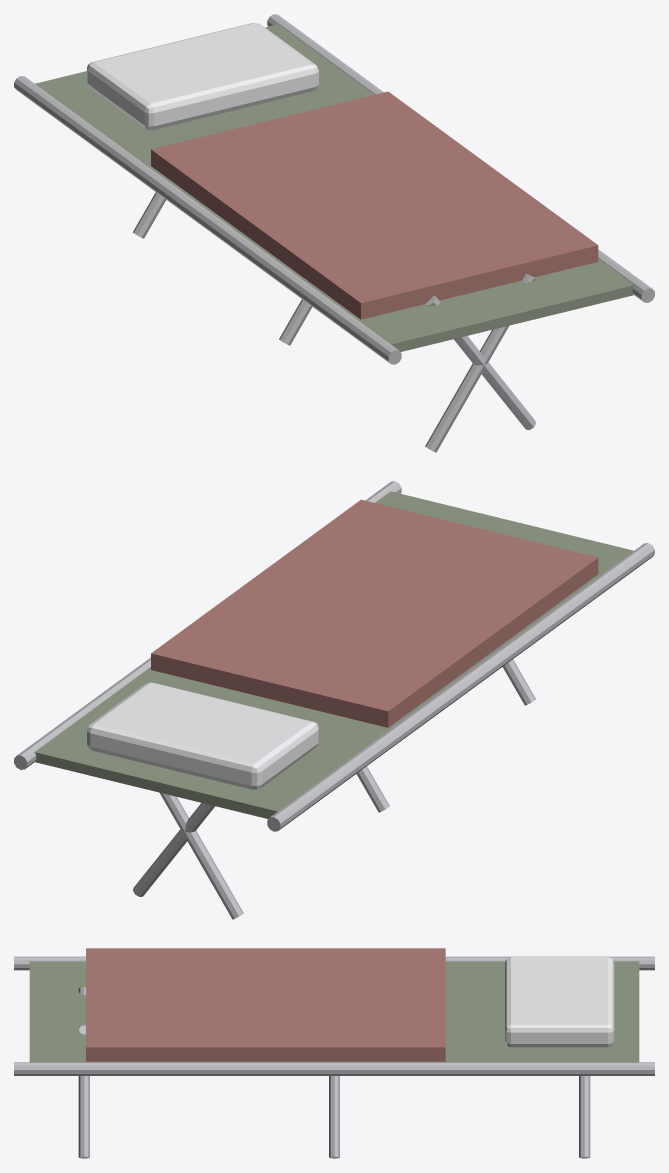
The model's file is Base_MedicalCot.fbx.
The picture shows the model from 3 angles, top to bottom: view 1: azimuth 30°, elevation 25°; view 2: azimuth 150°, elevation 25°; view 3: azimuth 270°, elevation 25°; orthographic projection. The views are drawn at different scales.
Visible parts, largest first — view 1: Base_MedicalCot; view 2: Base_MedicalCot; view 3: Base_MedicalCot.
Boxes of the visible parts, bbox=[...] form: Base_MedicalCot: bbox=[14, 14, 654, 452]; Base_MedicalCot: bbox=[14, 481, 654, 919]; Base_MedicalCot: bbox=[14, 948, 654, 1158].
Bounding box in the file's own units: 0.8418 × 0.5256 × 2.05.
